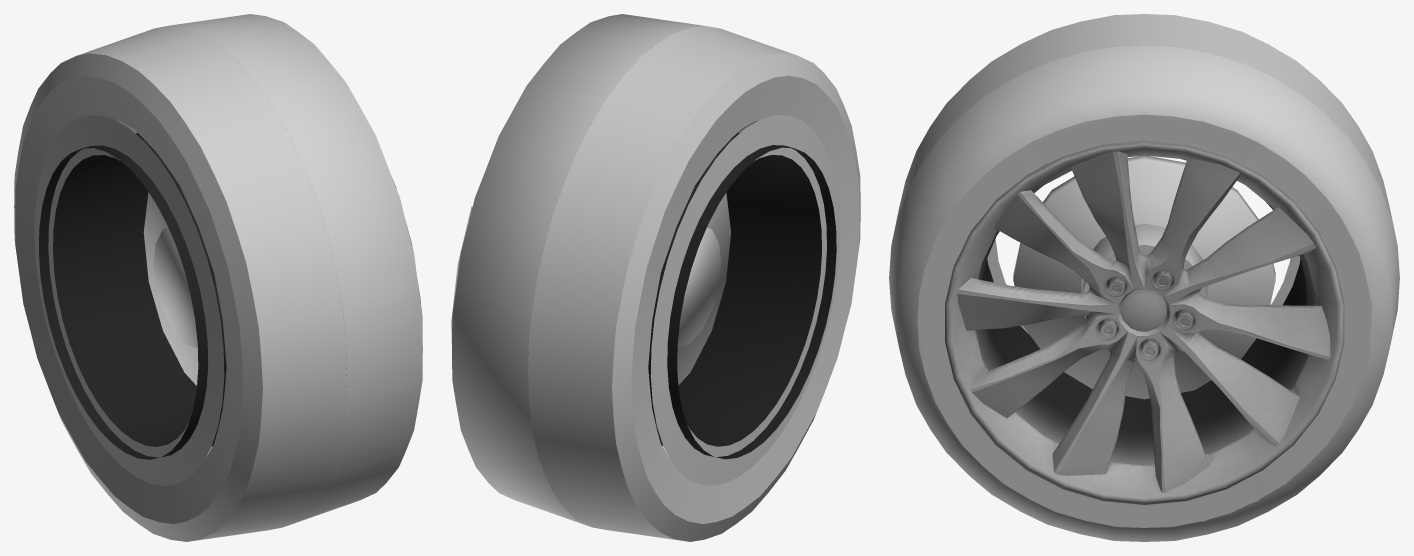
The model's file is wh_tesla_l.FBX.
3 renders of one model, left to right at view 1: azimuth 30°, elevation 25°; view 2: azimuth 150°, elevation 25°; view 3: azimuth 270°, elevation 25°, orthographic.
Visible parts, largest first — view 1: wh_tesla_l; view 2: wh_tesla_l; view 3: wh_tesla_l.
Part boxes in pixels (bbox=[...]): wh_tesla_l: bbox=[14, 14, 422, 541]; wh_tesla_l: bbox=[451, 14, 860, 541]; wh_tesla_l: bbox=[889, 14, 1399, 541].
Bounding box in the file's own units: 0.3272 × 0.7575 × 0.7608.
